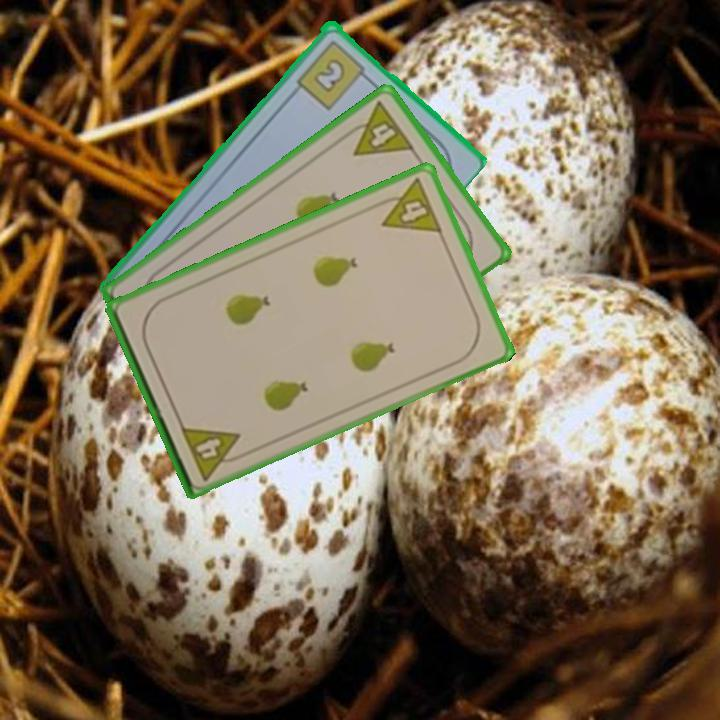2b: (293, 36, 373, 112)
4p: (338, 97, 418, 159), (370, 175, 445, 236), (177, 422, 250, 484)
